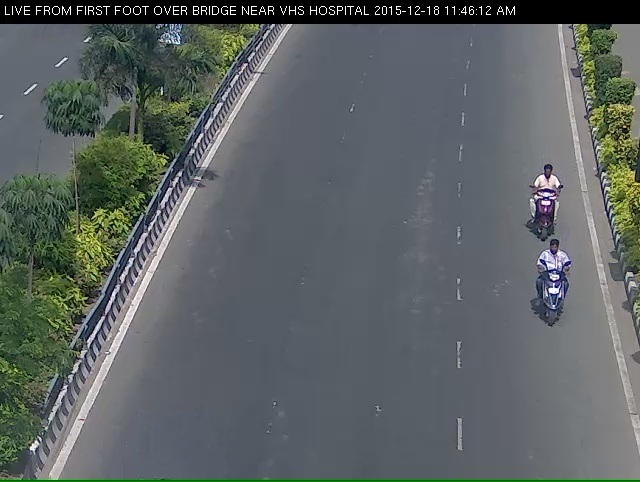Person: (530, 256, 578, 347), (523, 169, 563, 255)
